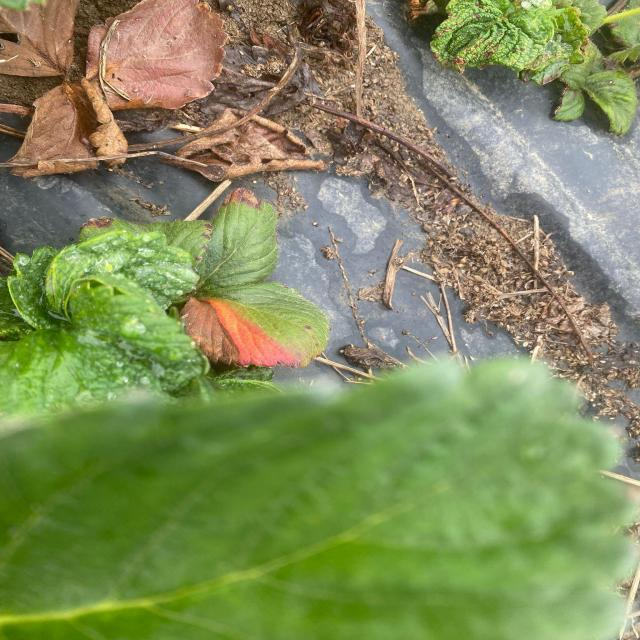flower: (0, 359, 638, 640)
